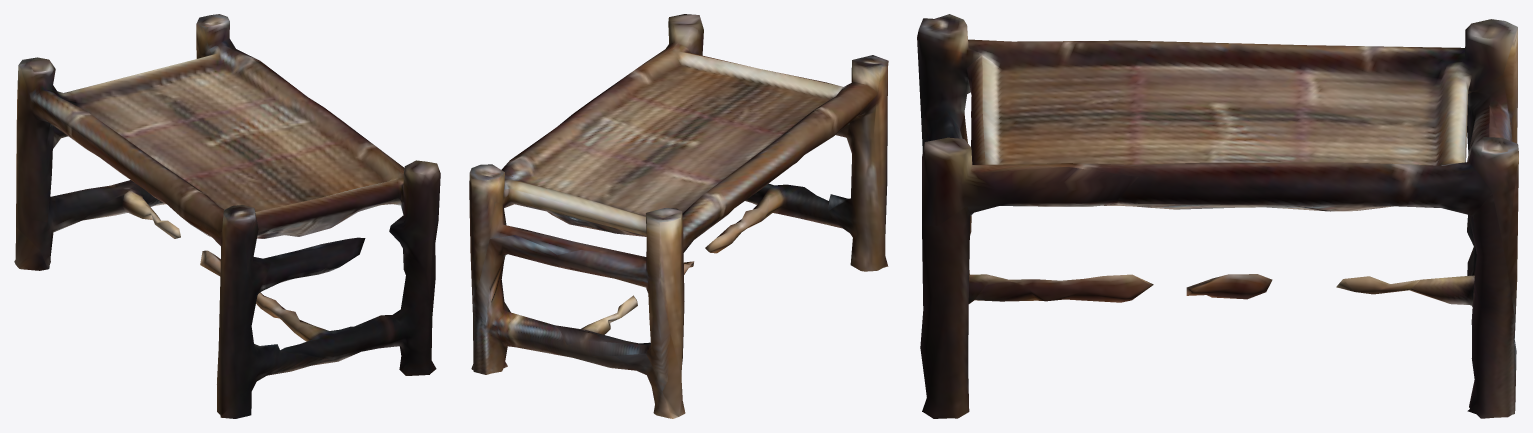
The model's file is 20240220181344-Furniture - Laporan 3.glb.
3 renders of one model, left to right at view 1: azimuth 30°, elevation 25°; view 2: azimuth 150°, elevation 25°; view 3: azimuth 270°, elevation 25°, orthographic. The views are drawn at different scales.
Parts seen in each view (by area): view 1: defaultobject; view 2: defaultobject; view 3: defaultobject.
Part boxes in pixels (<box>): defaultobject: <box>14,14,440,418</box>; defaultobject: <box>469,14,888,418</box>; defaultobject: <box>917,14,1518,418</box>.
Size of the model in its own units: 1.69 by 1.49 by 3.01.
Materials: 1 (1 with a texture image).
